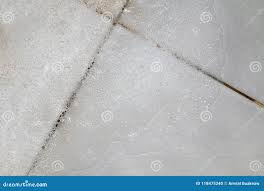Wet-floor: (1, 2, 264, 169)
